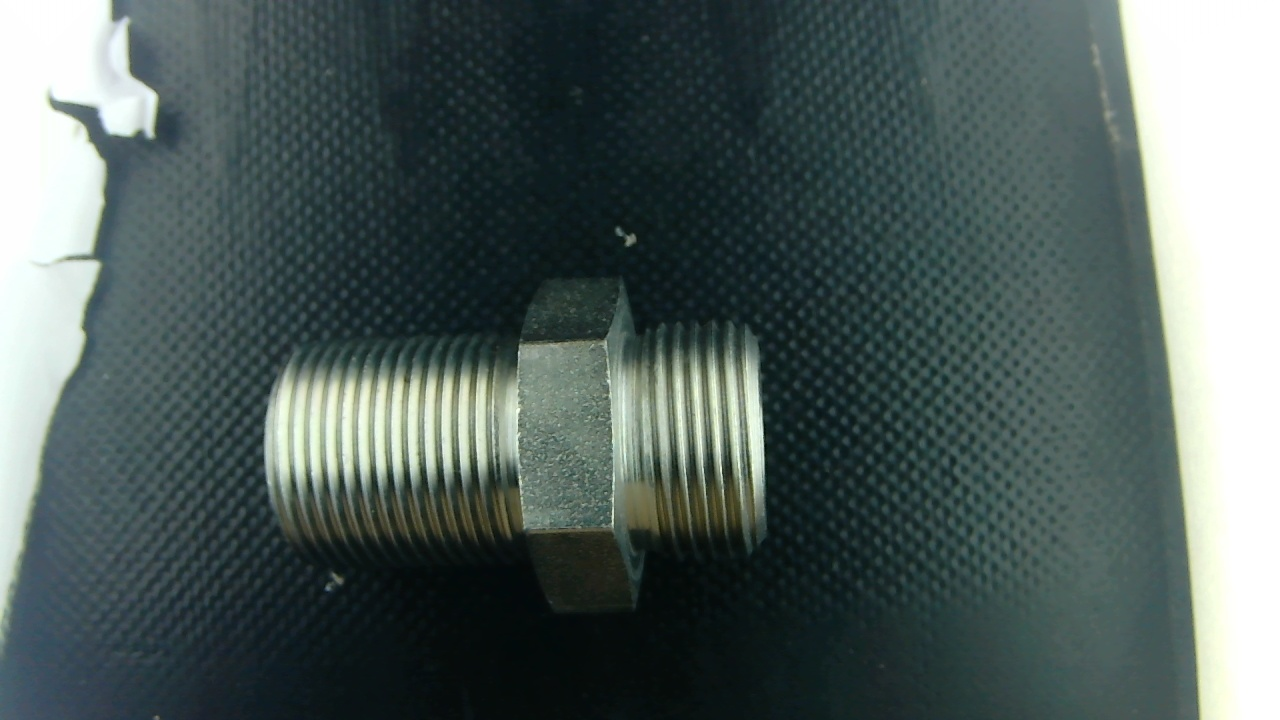okay_adapter: (263, 278, 766, 612)
